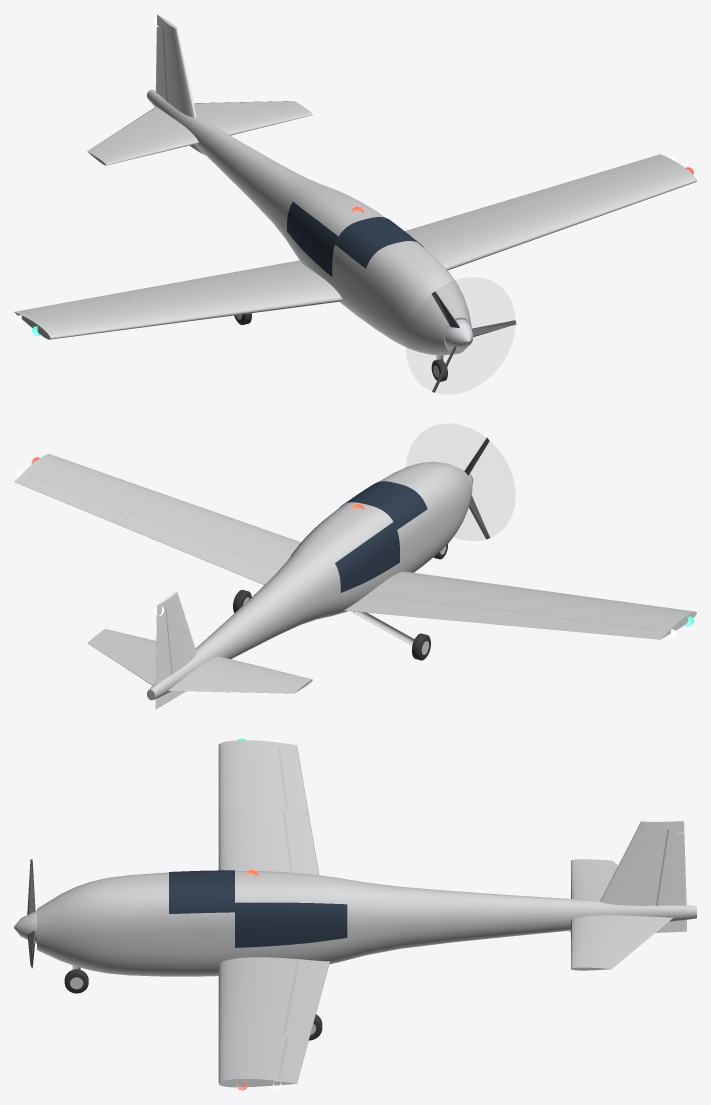
3 views of the same model, one above another, from view 1: azimuth 30°, elevation 25°; view 2: azimuth 150°, elevation 25°; view 3: azimuth 270°, elevation 25° (orthographic). The views are drawn at different scales.
Parts seen in each view (by area): view 1: airframe, prop; view 2: airframe, gear, prop; view 3: airframe, gear.
Boxes of the visible parts, x1,y1,x2,y2 form: airframe: [14, 14, 696, 355]; prop: [431, 291, 516, 392]; airframe: [14, 454, 696, 709]; gear: [233, 544, 447, 660]; prop: [405, 437, 490, 539]; airframe: [14, 738, 696, 1090]; gear: [64, 965, 322, 1040].
Bounding box in the file's own units: 10.42 × 2.4 × 8.69.
